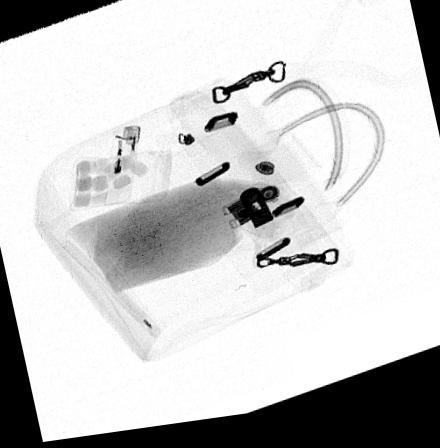Lighter: (108, 129, 141, 207)
